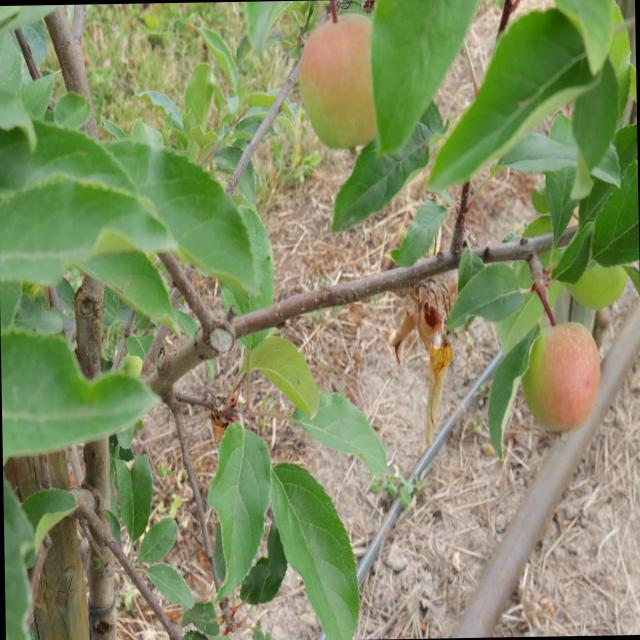-FireBlight-: (393, 292, 450, 449)
